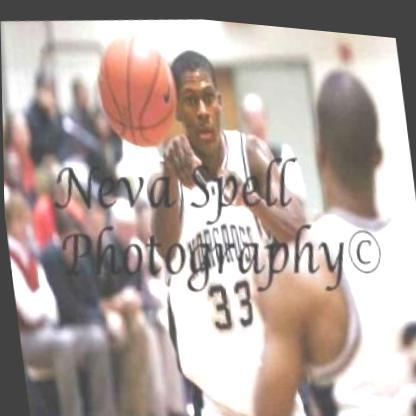basketball: (91, 21, 186, 152)
